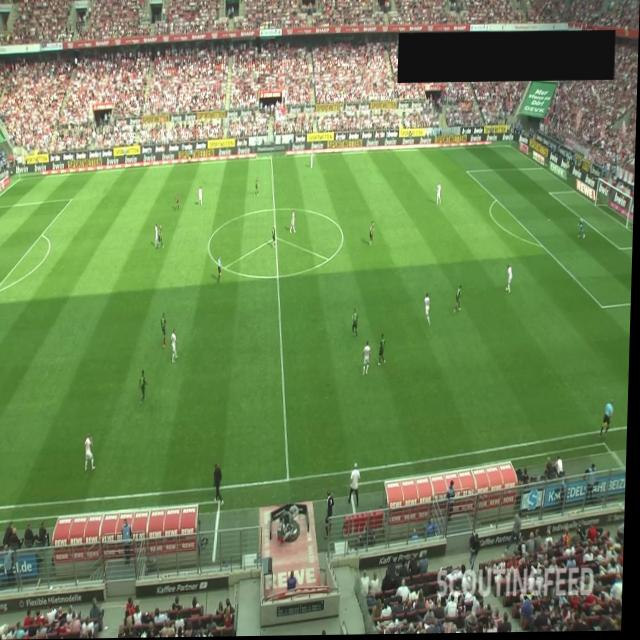goalkeeper: (578, 218, 588, 243), (0, 240, 1, 265)
player: (86, 434, 99, 472), (141, 369, 151, 405), (364, 341, 373, 377), (172, 329, 181, 363), (161, 312, 169, 350), (380, 334, 389, 366), (426, 293, 434, 327), (353, 308, 361, 340), (456, 286, 464, 316), (291, 210, 298, 235), (370, 221, 377, 246), (508, 266, 514, 294), (160, 225, 166, 250), (156, 224, 161, 250), (438, 183, 443, 207), (273, 227, 278, 249), (199, 185, 204, 206), (256, 177, 261, 197), (176, 191, 181, 211), (311, 152, 315, 170)
referee: (602, 401, 617, 441), (218, 255, 224, 283), (190, 146, 195, 166)
